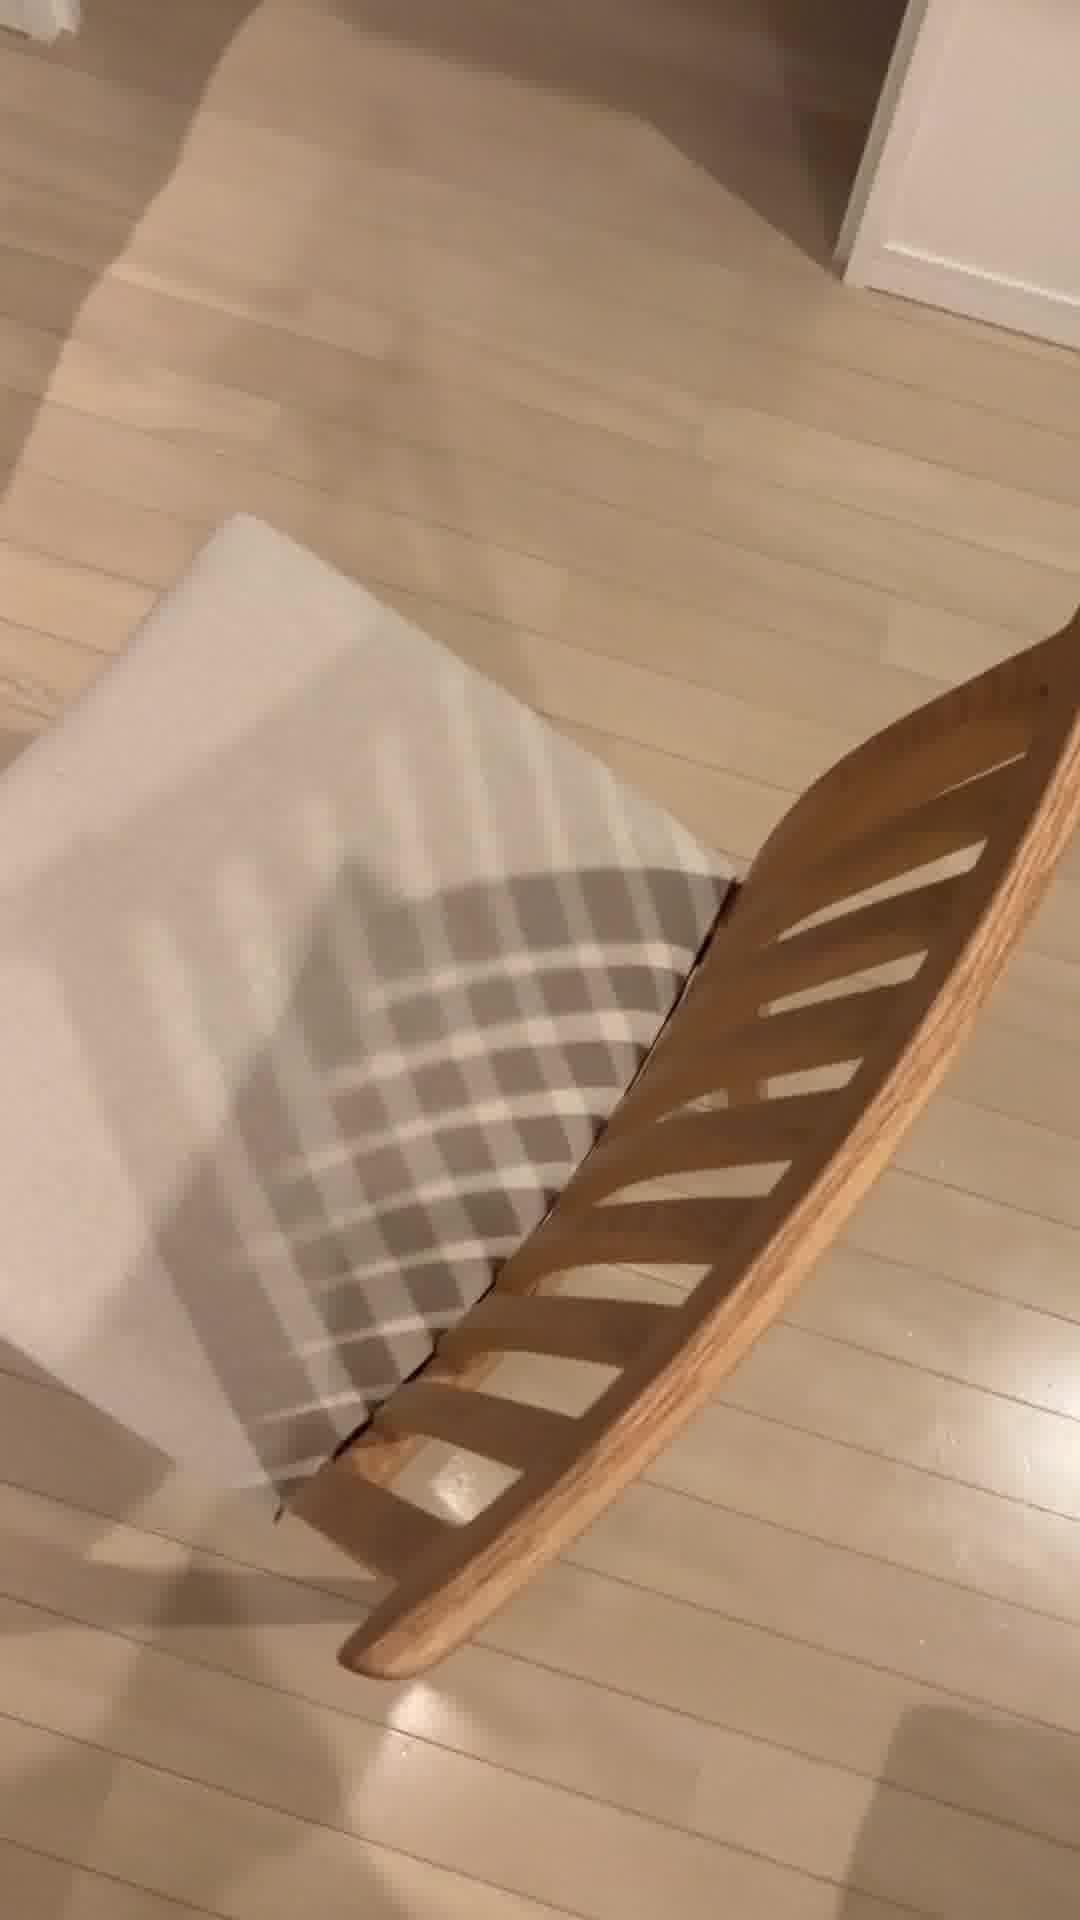takumikan-chair: (0, 502, 1080, 1688)
